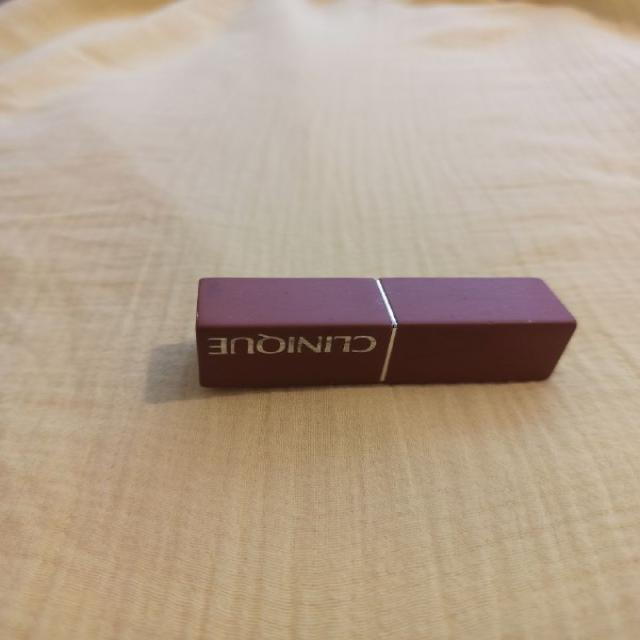lipstick: (194, 274, 584, 394)
